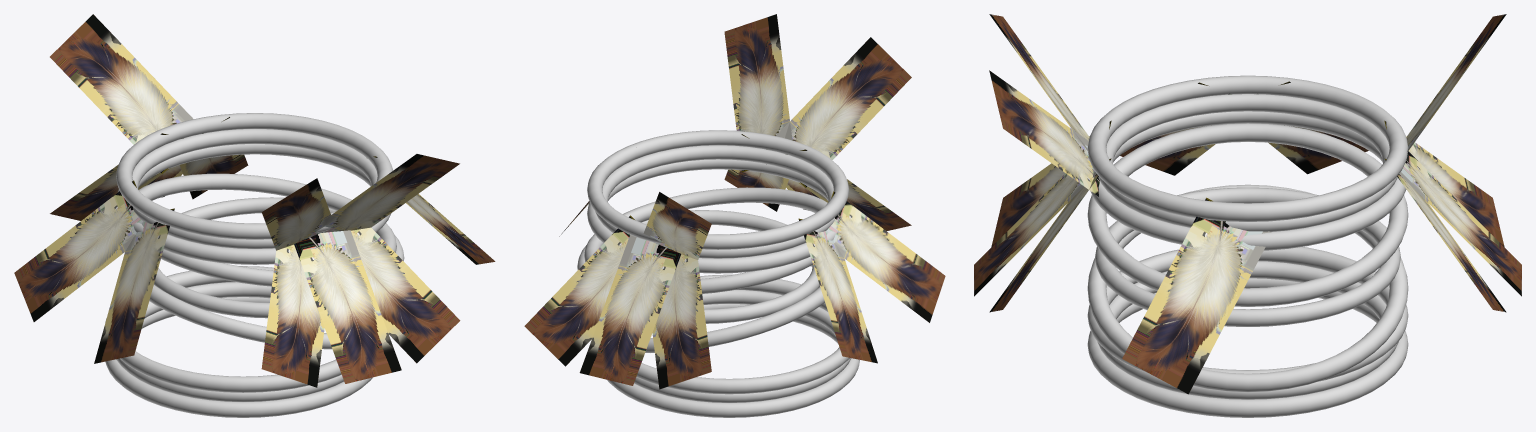
File: amulet_01.fbx
3 views of the same model, side by side, from view 1: azimuth 30°, elevation 25°; view 2: azimuth 150°, elevation 25°; view 3: azimuth 270°, elevation 25° (orthographic). The views are drawn at different scales.
Parts seen in each view (by area): view 1: Plane.001, Plane.002, Plane, Torus.003, Torus.002, Torus.004, Torus.007, Torus.001, Torus.009, Torus.005, Torus.008, Torus.006; view 2: Plane.001, Plane.002, Plane, Torus.003, Torus.002, Torus.004, Torus.007, Torus.001, Torus.009, Torus.008, Torus.005, Torus.006; view 3: Plane.001, Plane.002, Torus.003, Torus.004, Torus.001, Torus.002, Torus.007, Torus.006, Plane, Torus.005, Torus.008, Torus.009.
Boxes of the visible parts, x1,y1,x2,y2 form: Plane.001: (50, 14, 460, 387); Plane.002: (14, 156, 495, 363); Plane: (148, 165, 401, 383); Torus.003: (116, 113, 392, 239); Torus.002: (132, 129, 377, 248); Torus.004: (139, 173, 396, 286); Torus.007: (105, 297, 372, 417); Torus.001: (117, 144, 391, 264); Torus.009: (105, 266, 341, 392); Torus.005: (154, 197, 404, 318); Torus.008: (116, 282, 343, 401); Torus.006: (149, 285, 332, 349); Plane.001: (524, 14, 911, 389); Plane.002: (559, 191, 945, 363); Plane: (579, 179, 819, 385); Torus.003: (587, 130, 848, 249); Torus.002: (595, 145, 834, 258); Torus.004: (584, 187, 827, 293); Torus.007: (607, 304, 859, 417); Torus.001: (587, 159, 835, 273); Torus.009: (636, 274, 849, 394); Torus.008: (634, 290, 851, 402); Torus.005: (577, 210, 819, 323); Torus.006: (645, 265, 824, 352); Plane.001: (989, 14, 1506, 312); Plane.002: (1120, 81, 1368, 394); Torus.003: (1087, 75, 1408, 221); Torus.004: (1087, 123, 1408, 306); Torus.001: (1090, 111, 1406, 250); Torus.002: (1098, 94, 1397, 231); Torus.007: (1087, 278, 1408, 417); Torus.006: (1087, 184, 1408, 392); Plane: (974, 151, 1521, 296); Torus.005: (1095, 187, 1400, 326); Torus.008: (1097, 261, 1398, 399); Torus.009: (1087, 247, 1408, 381).
Size of the model in its own units: 1380 by 929 by 1451.
